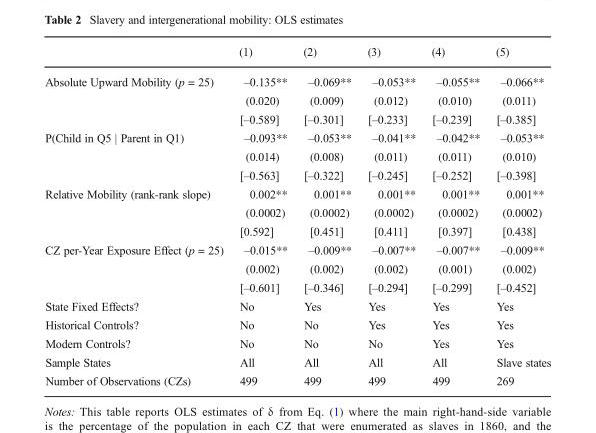table: (44, 44, 550, 386)
table column: (44, 44, 230, 386), (358, 44, 423, 386), (230, 44, 294, 386), (294, 44, 358, 386), (423, 44, 487, 386), (487, 44, 550, 386)
table column header: (44, 44, 550, 65)
table row: (44, 65, 550, 90), (44, 44, 550, 65), (44, 90, 550, 109), (44, 109, 550, 128), (44, 146, 550, 165), (44, 165, 550, 184), (44, 202, 550, 221), (44, 239, 550, 258), (44, 258, 550, 277), (44, 277, 550, 296), (44, 314, 550, 333), (44, 333, 550, 352), (44, 352, 550, 371), (44, 128, 550, 146), (44, 184, 550, 202), (44, 221, 550, 239), (44, 296, 550, 314), (44, 371, 550, 386)
table spanning cell: (44, 65, 230, 128), (44, 239, 230, 296), (44, 128, 230, 184), (44, 184, 230, 239)
